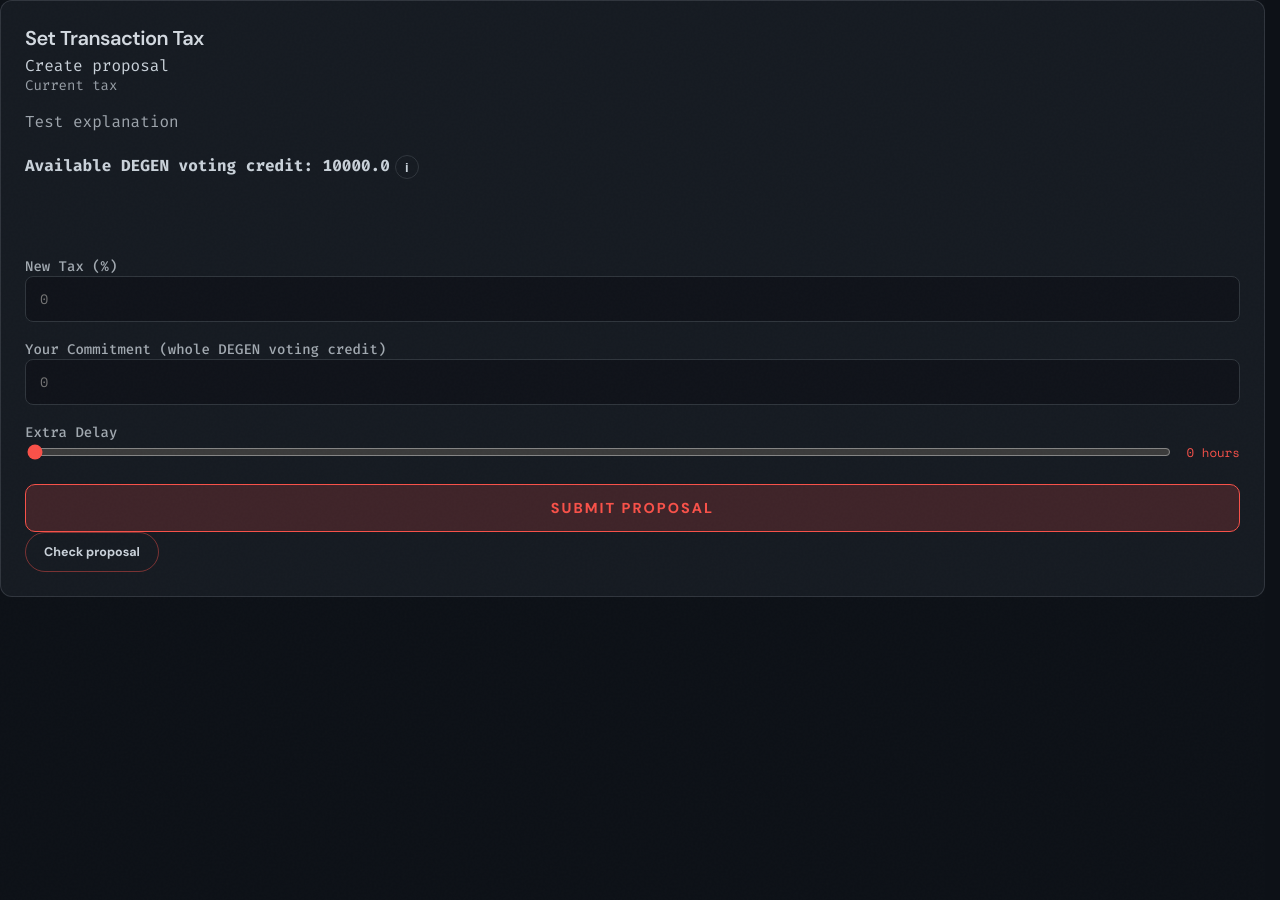
governance composer safety › retains display credit on failed optional checks while submissions always recheck
Check: the text "Available DEGEN voting credit: 10000.0" is shown, box left=25, top=156, right=390, bottom=177
Step 1. Click the button "Check proposal" → (92, 552), box left=25, top=532, right=159, bottom=572
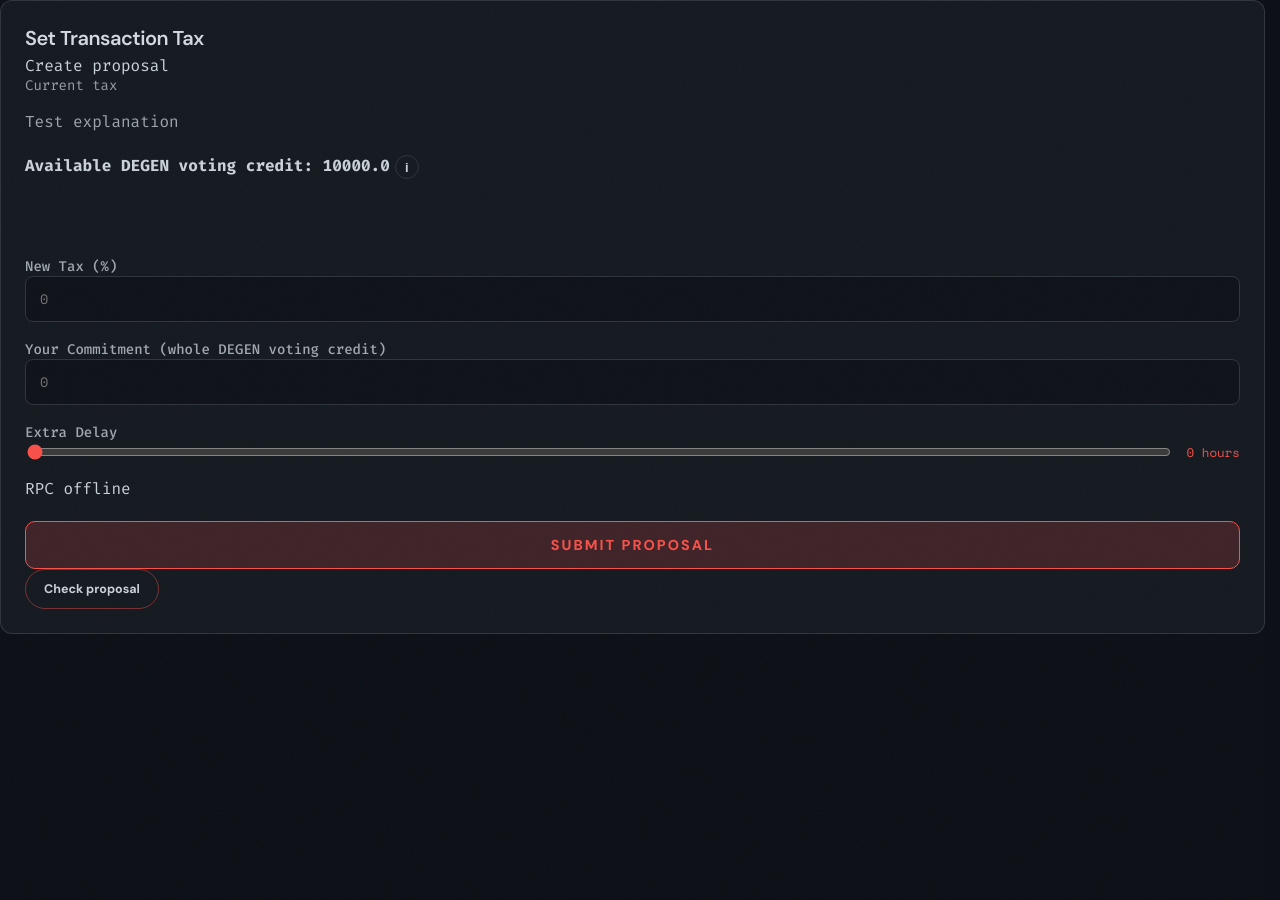
Check: the text "Available DEGEN voting credit: 10000.0" is shown, box left=25, top=156, right=390, bottom=177
Check: the message reads "RPC offline", box left=25, top=478, right=131, bottom=499
